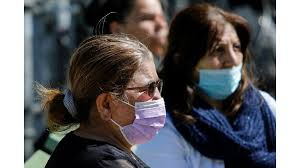mask_weared_incorrect: (206, 43, 249, 93)
with_mask: (130, 80, 175, 146)
without_mask: (134, 9, 171, 51)
